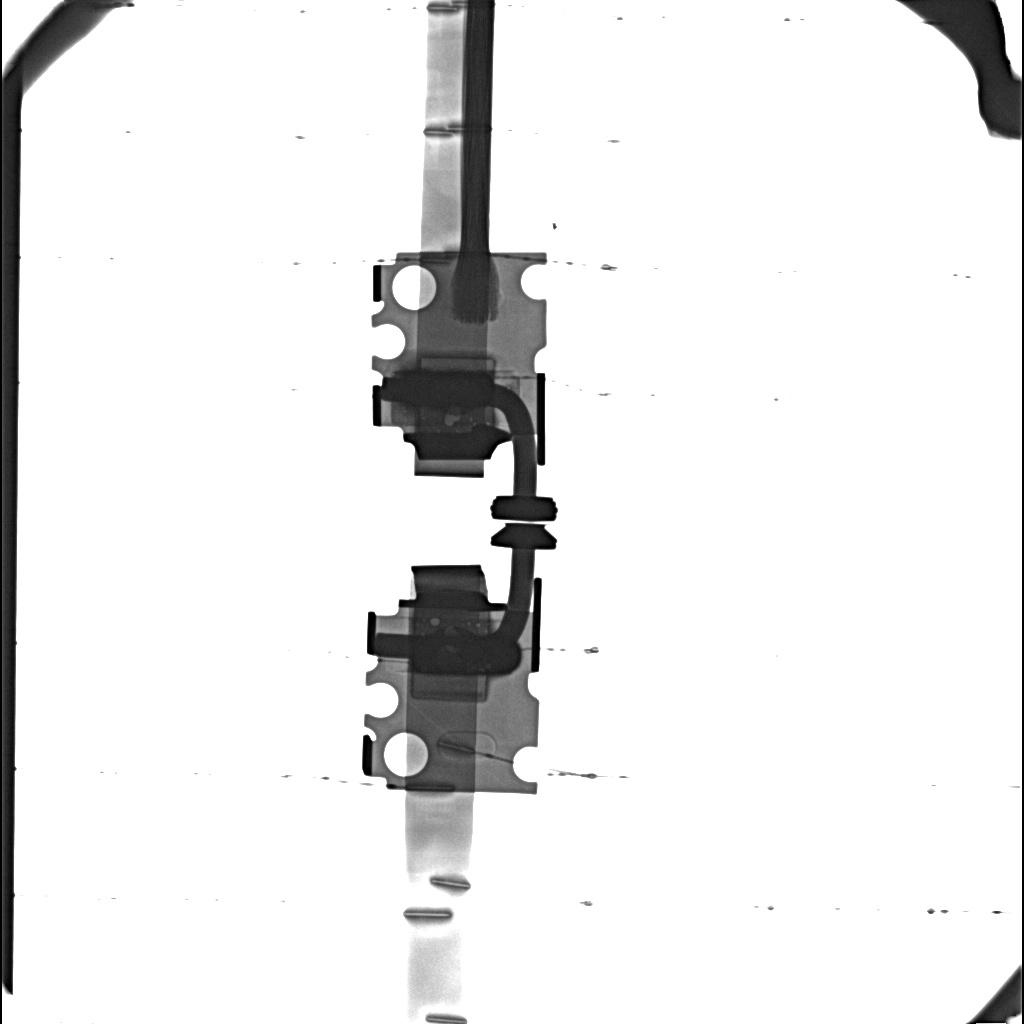defect: (412, 628, 520, 675), (396, 371, 494, 409), (410, 674, 489, 703), (418, 356, 496, 376), (445, 413, 461, 426), (430, 618, 440, 626)
